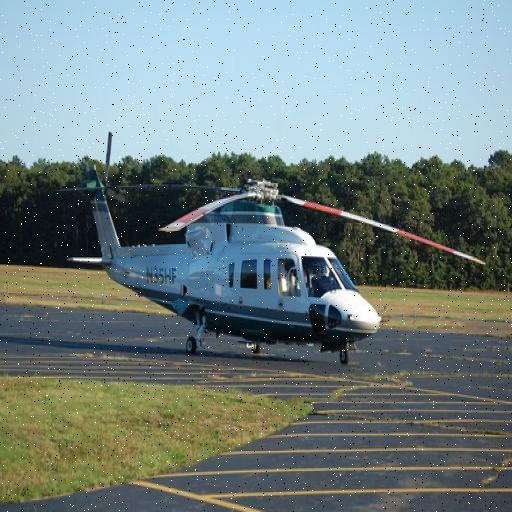helicopter: (60, 124, 492, 371)
